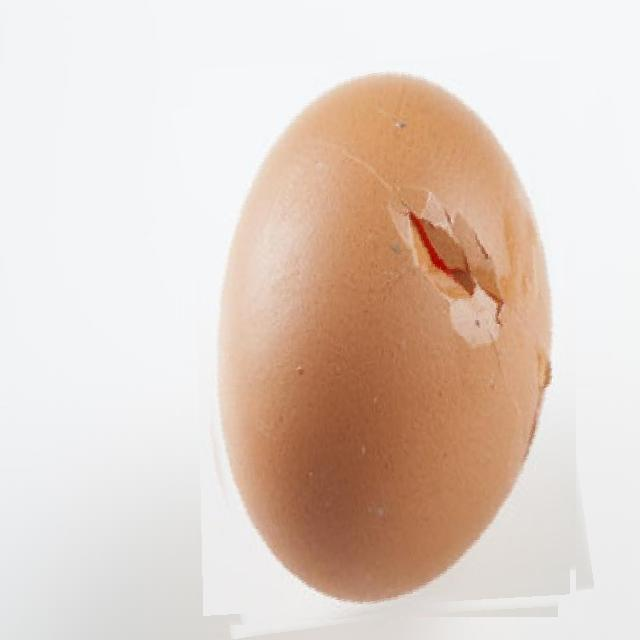biodegradable: (173, 60, 576, 628)
